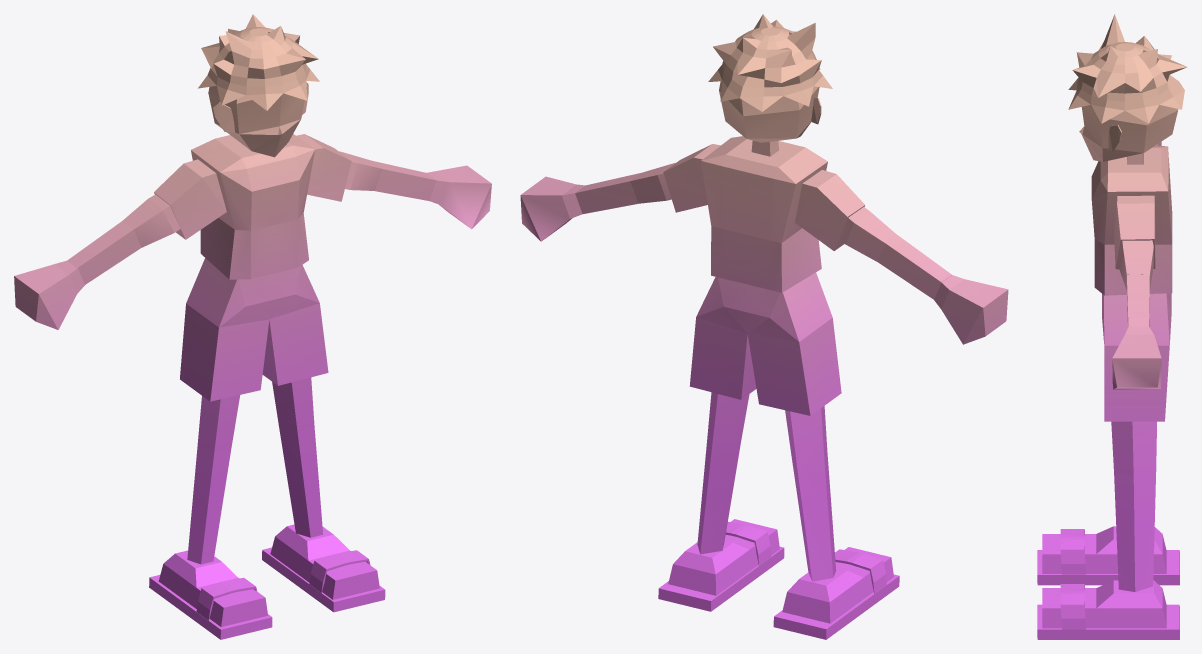
File: Zombie bg1.glb
3 renders of one model, left to right at view 1: azimuth 30°, elevation 25°; view 2: azimuth 150°, elevation 25°; view 3: azimuth 270°, elevation 25°, orthographic. The views are drawn at different scales.
Visible parts, largest first — view 1: Shirt.001, Hair, Right_Legging, Left_Legging, Head, Right_Foot, Left_Foot, Lower_Right_Leg, Shirt_Right_Arm.002, Lower_Left_Leg, Right_Hand, Lower_Right_Pant (+12 smaller); view 2: Shirt.001, Hair, Right_Legging, Left_Legging, Right_Foot, Left_Foot, Lower_Right_Leg, Right_Hand, Lower_Left_Leg, Shirt_Right_Arm.002, Head, Lower_Right_Pant (+12 smaller); view 3: Hair, Shirt.001, Lower_Left_Leg, Left_Foot, Head, Left__Flipflop.002, Left_Legging, Right__Flipflop.001, Left_Hand, Right_Foot, Upper_Left_Leg, Lower_Leftt_Pant (+3 smaller).
Boxes of the visible parts, left/top/right/bottom form: Shirt.001: left=191, top=134, right=315, bottom=279; Hair: left=198, top=14, right=319, bottom=110; Right_Legging: left=180, top=303, right=269, bottom=401; Left_Legging: left=262, top=303, right=328, bottom=385; Head: left=208, top=81, right=308, bottom=157; Right_Foot: left=158, top=550, right=267, bottom=626; Left_Foot: left=270, top=524, right=379, bottom=599; Lower_Right_Leg: left=187, top=446, right=231, bottom=564; Shirt_Right_Arm.002: left=154, top=159, right=226, bottom=239; Lower_Left_Leg: left=279, top=426, right=322, bottom=537; Right_Hand: left=14, top=260, right=84, bottom=329; Lower_Right_Pant: left=186, top=258, right=268, bottom=327; Shirt.001: left=701, top=136, right=827, bottom=292; Hair: left=708, top=14, right=832, bottom=111; Right_Legging: left=747, top=318, right=841, bottom=415; Left_Legging: left=689, top=317, right=756, bottom=399; Right_Foot: left=782, top=547, right=893, bottom=623; Left_Foot: left=668, top=519, right=779, bottom=595; Lower_Right_Leg: left=791, top=452, right=836, bottom=581; Right_Hand: left=934, top=275, right=1008, bottom=344; Lower_Left_Leg: left=697, top=433, right=740, bottom=554; Shirt_Right_Arm.002: left=795, top=170, right=864, bottom=250; Head: left=719, top=81, right=821, bottom=142; Lower_Right_Pant: left=748, top=272, right=832, bottom=341; Hair: left=1068, top=14, right=1187, bottom=123; Shirt.001: left=1091, top=146, right=1172, bottom=295; Lower_Left_Leg: left=1114, top=469, right=1156, bottom=591; Left_Foot: left=1042, top=580, right=1166, bottom=628; Head: left=1079, top=105, right=1178, bottom=161; Left__Flipflop.002: left=1037, top=584, right=1179, bottom=639; Left_Legging: left=1104, top=345, right=1169, bottom=421; Right__Flipflop.001: left=1037, top=529, right=1179, bottom=585; Left_Hand: left=1112, top=326, right=1161, bottom=389; Right_Foot: left=1042, top=526, right=1166, bottom=573; Upper_Left_Leg: left=1111, top=421, right=1156, bottom=476; Lower_Leftt_Pant: left=1102, top=293, right=1171, bottom=345.
Size of the model in its own units: 1.56 by 1.88 by 0.4513.
Materials: 1 (1 with a texture image).
